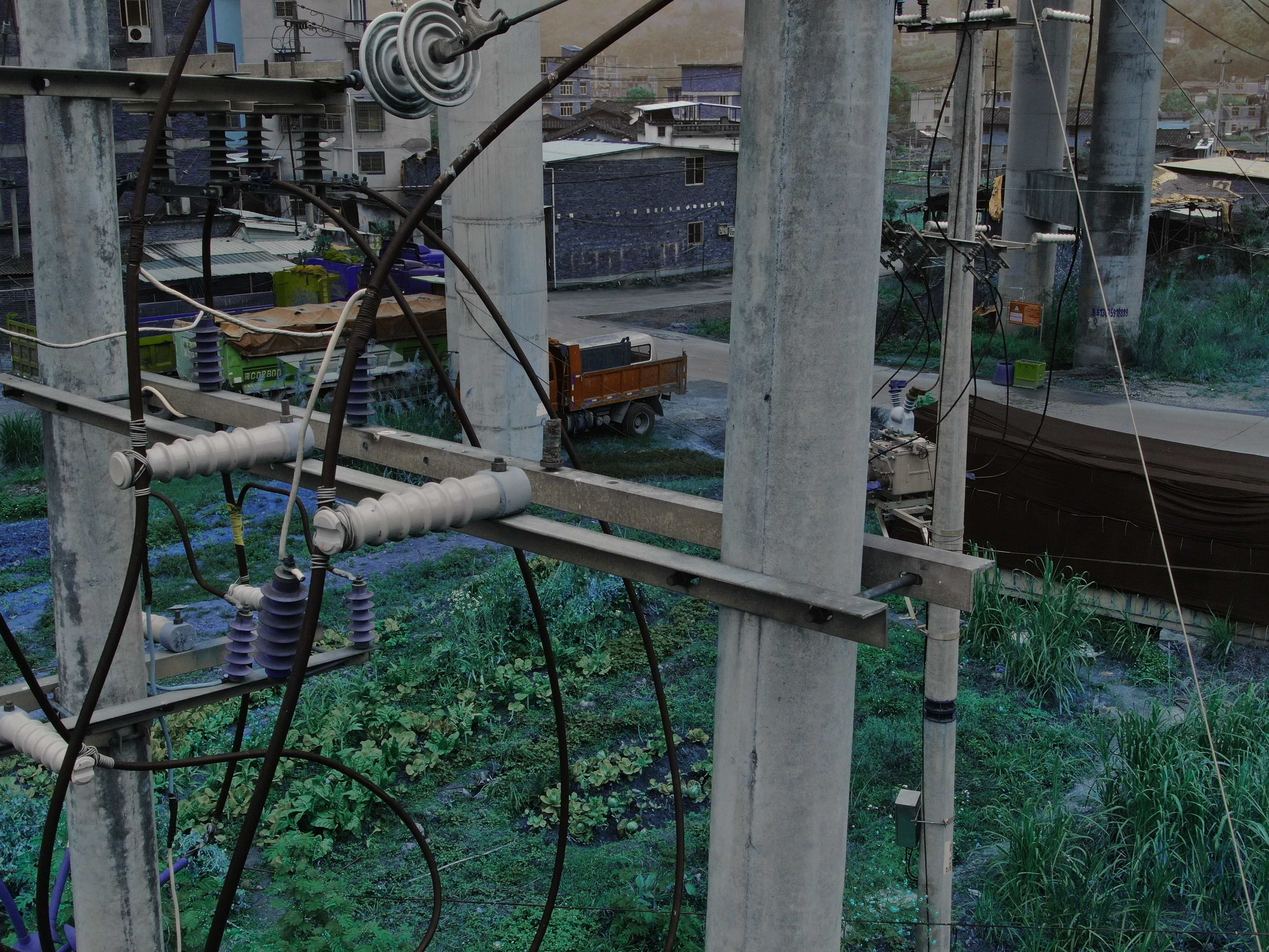severe_soiling_no_discharge_whole: (352, 3, 483, 122)
